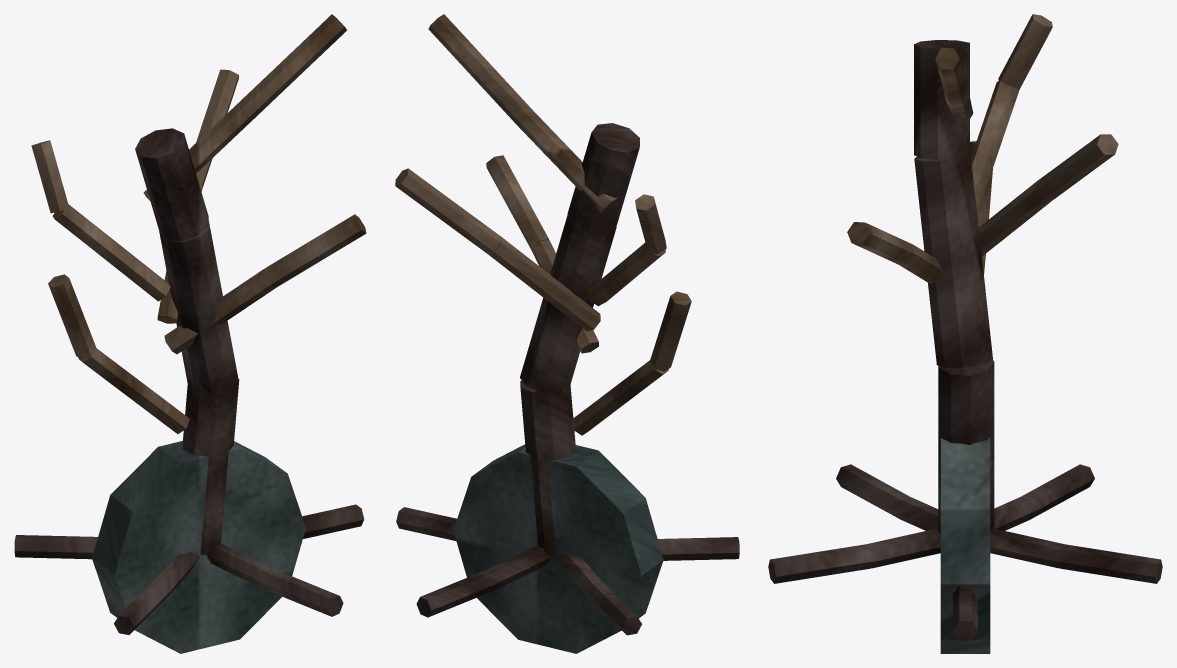
Rendered from 0135_dead_tree_10.glb.
3 views of the same model, side by side, from view 1: azimuth 30°, elevation 25°; view 2: azimuth 150°, elevation 25°; view 3: azimuth 270°, elevation 25° (orthographic). The views are drawn at different scales.
Visible parts, largest first — view 1: stone_dark, wood_dark, wood; view 2: stone_dark, wood_dark, wood; view 3: wood_dark, wood, stone_dark.
Part boxes in pixels (box(x1,y1,x2,y2)): stone_dark: box(92, 441, 305, 653); wood_dark: box(14, 128, 364, 634); wood: box(31, 14, 366, 433); stone_dark: box(453, 444, 663, 653); wood_dark: box(396, 123, 739, 635); wood: box(395, 14, 691, 435); wood_dark: box(768, 40, 1162, 640); wood: box(847, 14, 1118, 283); stone_dark: box(940, 437, 990, 653).
Bounding box in the file's own units: 1.7 × 3.22 × 1.75.
Materials: 3 (3 with a texture image).
